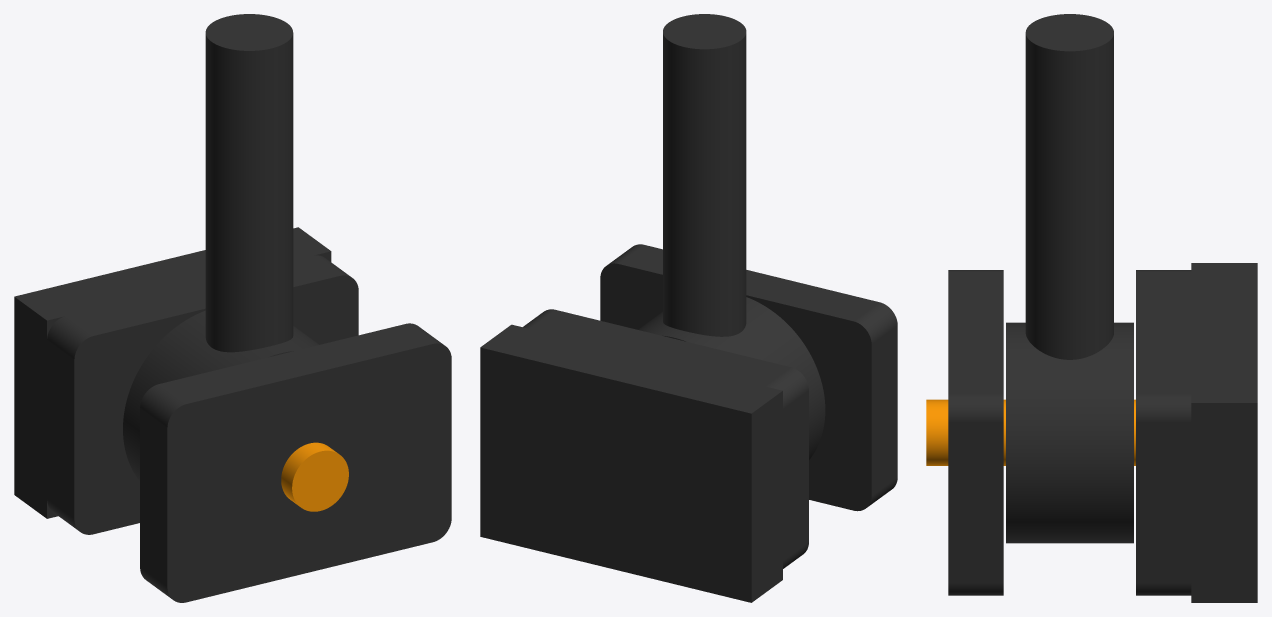
The model's file is assembly.glb.
3 views of the same model, side by side, from view 1: azimuth 30°, elevation 25°; view 2: azimuth 150°, elevation 25°; view 3: azimuth 270°, elevation 25° (orthographic). The views are drawn at different scales.
Parts seen in each view (by area): view 1: clevis/clevis-30x20/prong-upper, rod-end/rod-end-6x40/shank, clevis/clevis-30x20/prong-lower, clevis/clevis-30x20/base, rod-end/rod-end-6x40/eye, pin/clevis-pin-6x26/shank; view 2: clevis/clevis-30x20/base, rod-end/rod-end-6x40/shank, clevis/clevis-30x20/prong-upper, clevis/clevis-30x20/prong-lower, rod-end/rod-end-6x40/eye; view 3: rod-end/rod-end-6x40/shank, rod-end/rod-end-6x40/eye, clevis/clevis-30x20/base, clevis/clevis-30x20/prong-lower, clevis/clevis-30x20/prong-upper, pin/clevis-pin-6x26/shank.
Part boxes in pixels (box(x1,y1,x2,y2)): clevis/clevis-30x20/prong-upper: box(140, 323, 451, 602); rod-end/rod-end-6x40/shank: box(205, 14, 293, 352); clevis/clevis-30x20/prong-lower: box(47, 255, 358, 534); clevis/clevis-30x20/base: box(14, 227, 331, 518); rod-end/rod-end-6x40/eye: box(123, 310, 318, 480); pin/clevis-pin-6x26/shank: box(281, 442, 348, 511); clevis/clevis-30x20/base: box(480, 324, 782, 602); rod-end/rod-end-6x40/shank: box(663, 14, 746, 336); clevis/clevis-30x20/prong-upper: box(600, 244, 897, 511); clevis/clevis-30x20/prong-lower: box(523, 309, 808, 568); rod-end/rod-end-6x40/eye: box(638, 297, 825, 459); rod-end/rod-end-6x40/shank: box(1025, 14, 1113, 359); rod-end/rod-end-6x40/eye: box(1006, 322, 1133, 543); clevis/clevis-30x20/base: box(1191, 263, 1257, 602); clevis/clevis-30x20/prong-lower: box(1136, 270, 1191, 595); clevis/clevis-30x20/prong-upper: box(948, 270, 1003, 595); pin/clevis-pin-6x26/shank: box(926, 399, 1135, 465).
Bounding box in the file's own units: 0.03 × 0.05 × 0.03.
